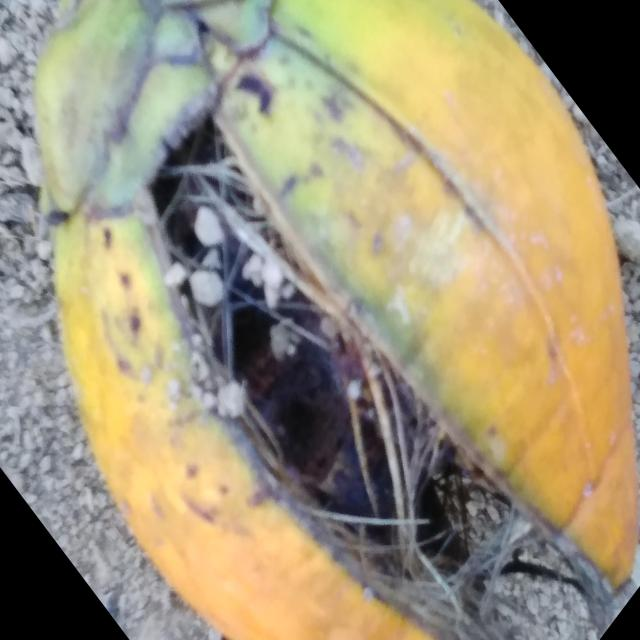damaged: (37, 0, 640, 640)
